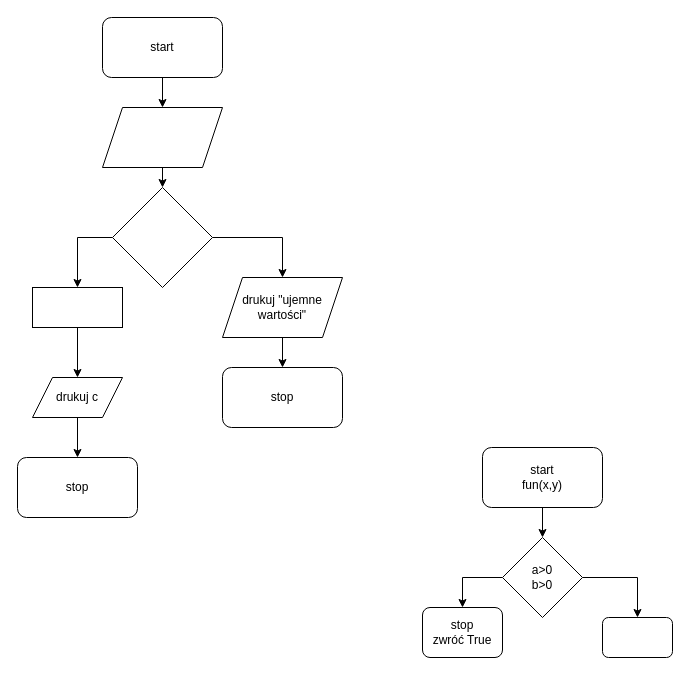
Some shapes in this 690 by 675 pixel diagram are drawn without their labels. The shapes that lost their labels are listed below. From the top down, each one's centre as x and y in pixels, then its label:
At point 162,137: "wczytaj a,b".
At point 162,237: "fun(a,b)=True".
At point 77,307: "c=a*b".
At point 637,637: "stop zwróć False".
